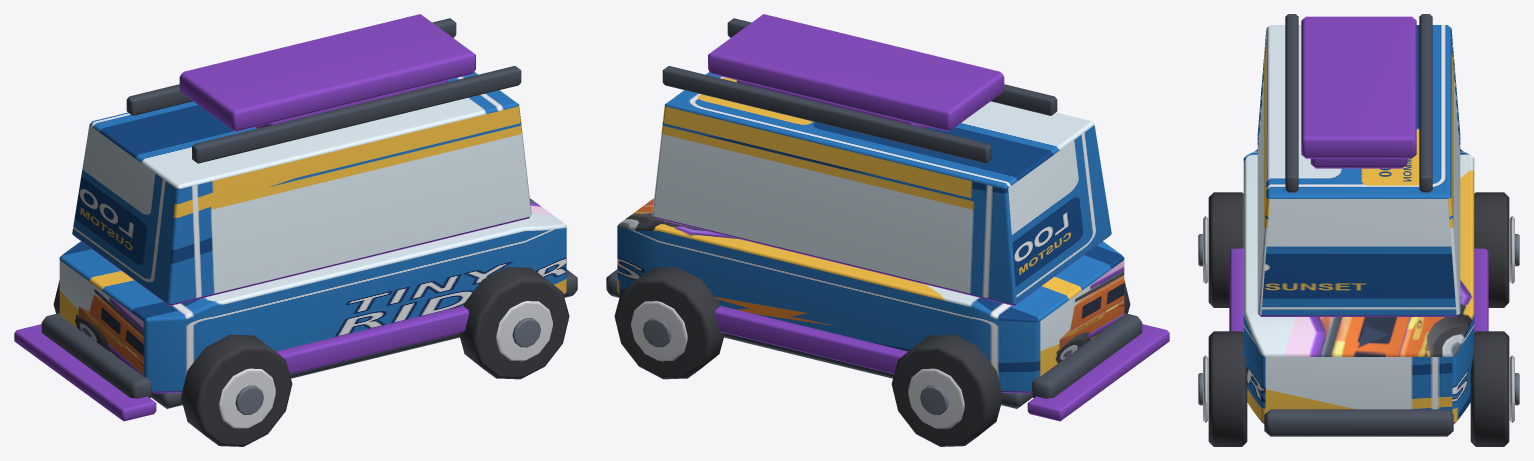
The picture shows the model from 3 angles, left to right: view 1: azimuth 30°, elevation 25°; view 2: azimuth 150°, elevation 25°; view 3: azimuth 270°, elevation 25°; orthographic projection. The views are drawn at different scales.
Parts seen in each view (by area): view 1: CC-05_cabin, CC-05_connected_shell, utility load, utility rail, Tire, Tire.002, custom side guard, custom chin, front bumper, Rim, Rim.002, utility rail.001 (+3 smaller); view 2: CC-05_cabin, CC-05_connected_shell, utility load, utility rail.001, Tire.001, Tire.003, custom side guard.001, custom chin, front bumper, Rim.001, Rim.003, utility rail (+3 smaller); view 3: CC-05_cabin, CC-05_connected_shell, utility load, rear bumper, Tire.002, Tire.003, Tire, Tire.001, utility rail, utility rail.001, custom side guard, custom side guard.001 (+5 smaller).
Part boxes in pixels (x1,y1,x2,y2): CC-05_cabin: (72,72,531,305); CC-05_connected_shell: (59,198,566,393); utility load: (179,14,475,131); utility rail: (192,66,521,163); Tire: (181,334,292,446); Tire.002: (459,267,569,379); custom side guard: (276,305,468,374); custom chin: (14,324,156,421); front bumper: (41,313,152,398); Rim: (219,368,275,428); Rim.002: (496,301,552,361); utility rail.001: (126,18,456,115); CC-05_cabin: (652,72,1111,305); CC-05_connected_shell: (617,198,1124,393); utility load: (708,14,1004,131); utility rail.001: (662,66,991,163); Tire.001: (891,334,1002,446); Tire.003: (614,267,724,379); custom side guard.001: (715,305,907,374); custom chin: (1027,324,1169,421); front bumper: (1031,313,1142,398); Rim.001: (908,368,964,428); Rim.003: (631,301,687,361); utility rail: (727,18,1057,115); CC-05_cabin: (1257,25,1460,316); CC-05_connected_shell: (1243,149,1474,423); utility load: (1301,16,1416,158); rear bumper: (1264,409,1453,436); Tire.002: (1208,331,1247,446); Tire.003: (1470,331,1509,446); Tire: (1208,192,1243,307); Tire.001: (1474,192,1509,307); utility rail: (1285,14,1298,192); utility rail.001: (1419,14,1432,192); custom side guard: (1229,248,1243,332); custom side guard.001: (1474,248,1488,332).
Size of the model in its own units: 372 by 226 by 216.
